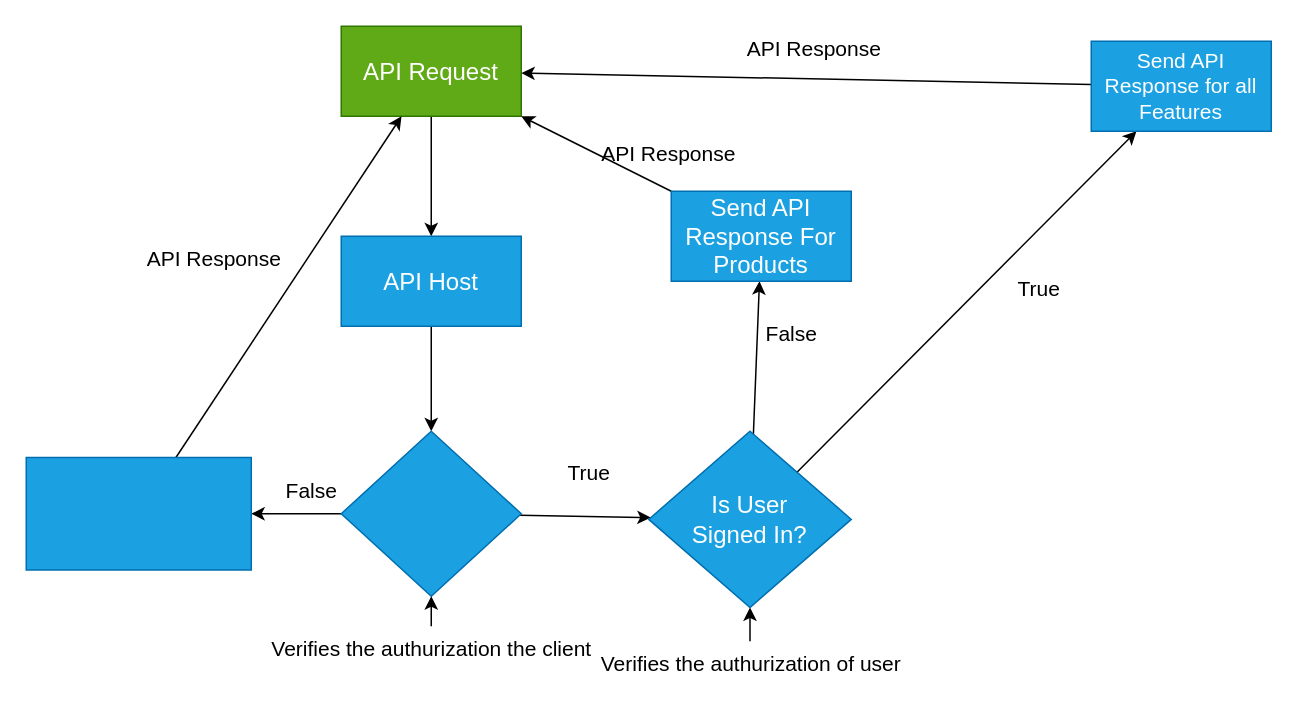
Image size: 1298x713. Some labels were removed from this diagram. The shapes that lost their labels are listed below. From the top down, each one's centre as x and y in pixels, then its label:
At (x=138, y=513): "No API Reponse / Fake Response".
At (x=430, y=513): "Is Client Verified?".
